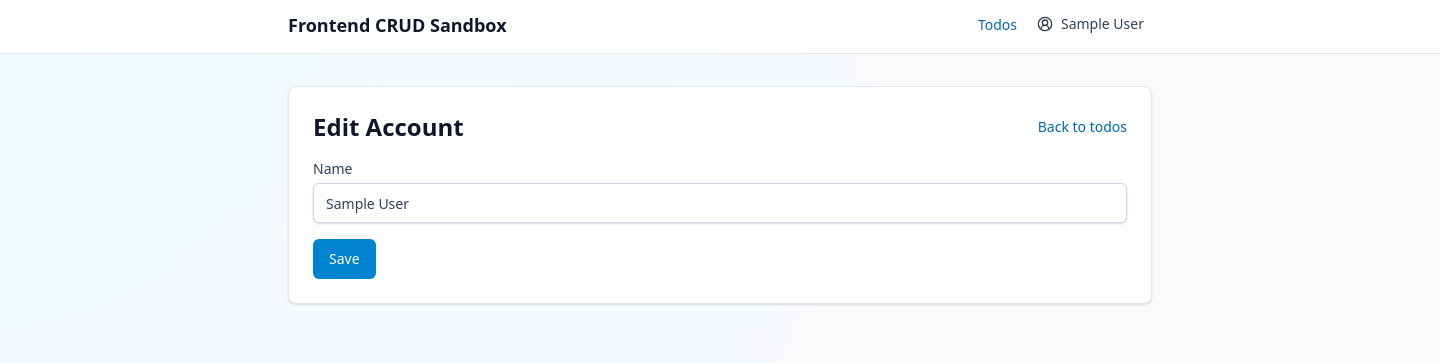
Test: account edit integration › shows api error on update failure
Replace the text in the field labelled "Name" with "force-error" at [720, 203], box top-left (313, 183), bottom-right (1127, 223)
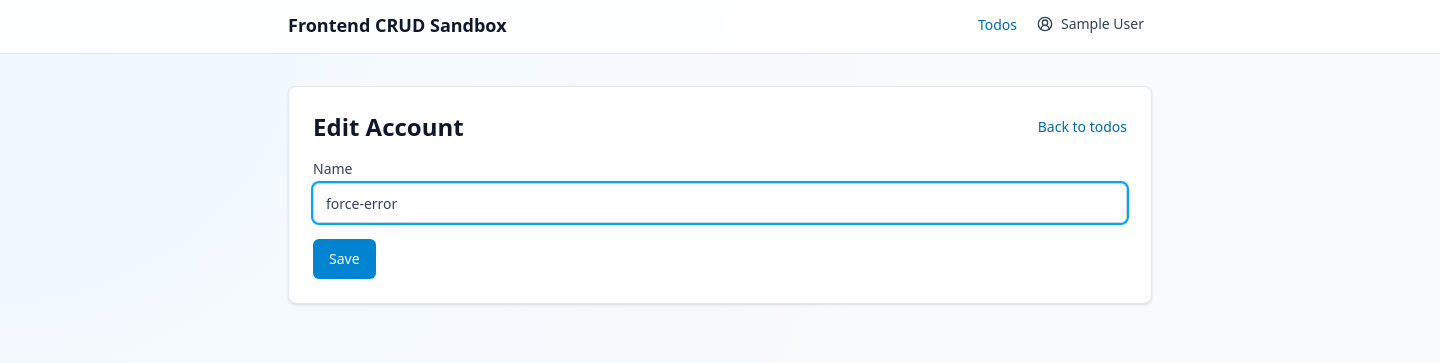
Click the button "Save" at [344, 259], box top-left (313, 239), bottom-right (376, 279)
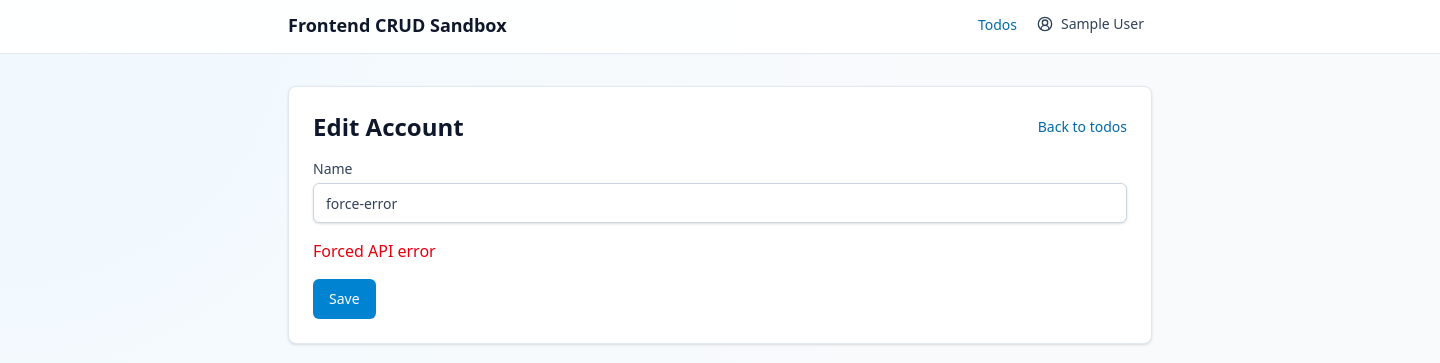
expect the text "Forced API error" is shown: met, box top-left (313, 240), bottom-right (436, 262)
